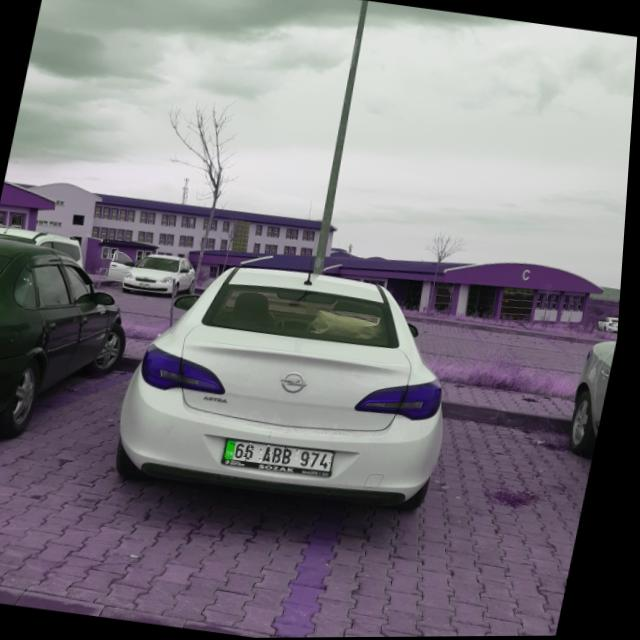license_plate: (230, 438, 340, 474)
